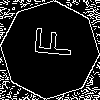F: (25, 25, 74, 59)
